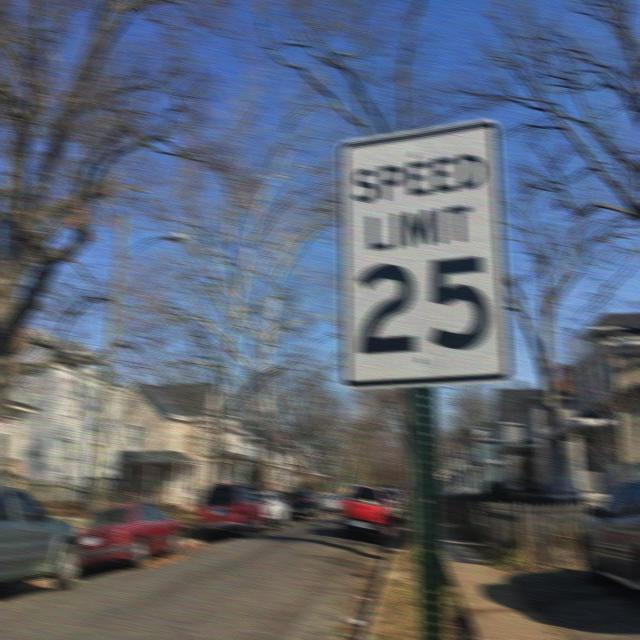speedLimit25: (337, 114, 518, 394)
